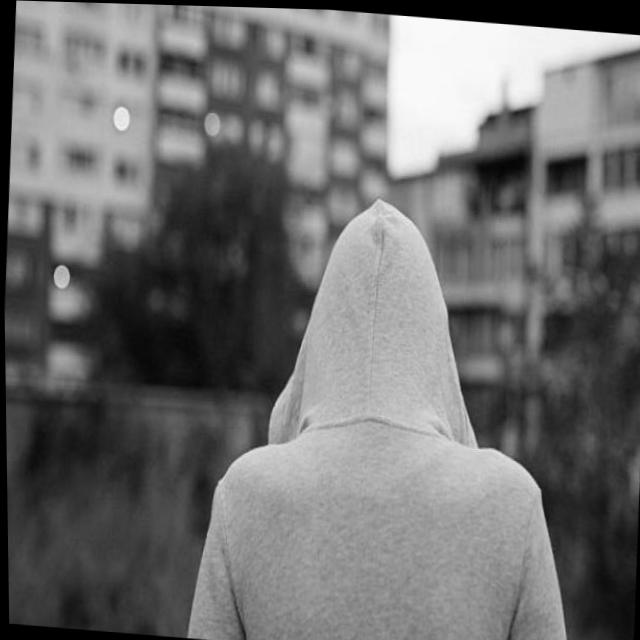no helmet: (284, 177, 487, 488)
